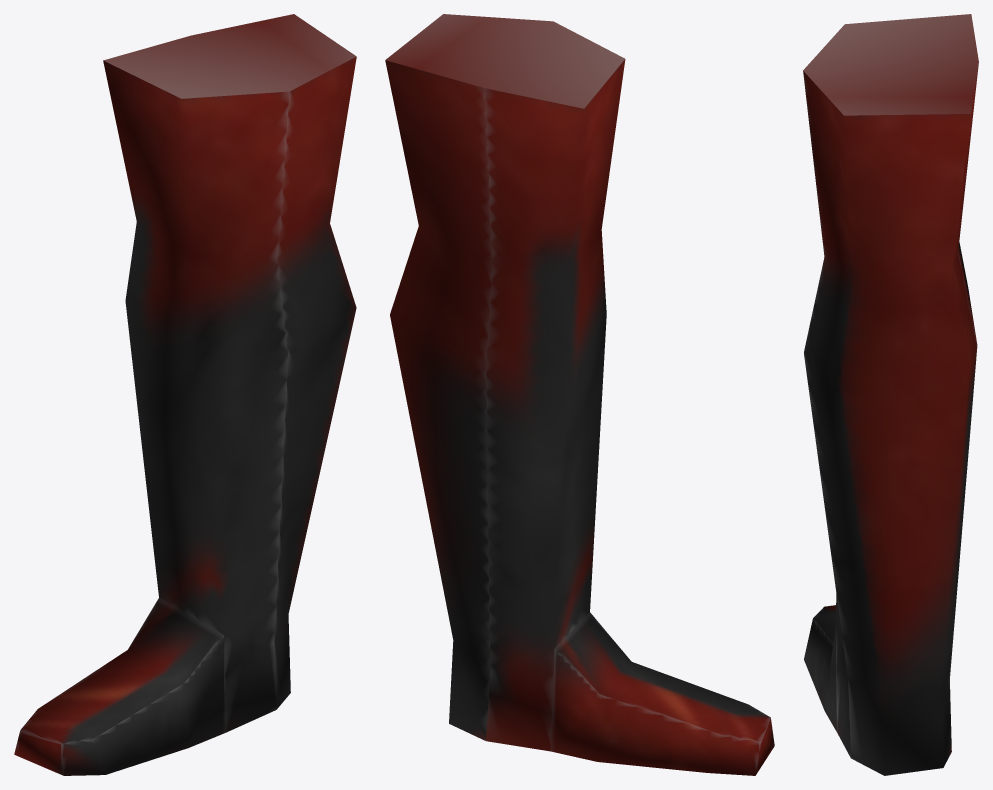
The model's file is Leg1.fbx.
The picture shows the model from 3 angles, left to right: view 1: azimuth 30°, elevation 25°; view 2: azimuth 150°, elevation 25°; view 3: azimuth 270°, elevation 25°; orthographic projection. The views are drawn at different scales.
Visible parts, largest first — view 1: Cube.080; view 2: Cube.080; view 3: Cube.080.
Boxes of the visible parts, bbox=[...] form: Cube.080: bbox=[14, 14, 356, 775]; Cube.080: bbox=[385, 14, 774, 775]; Cube.080: bbox=[803, 14, 978, 775].
Size of the model in its own units: 175 by 334 by 77.31.
